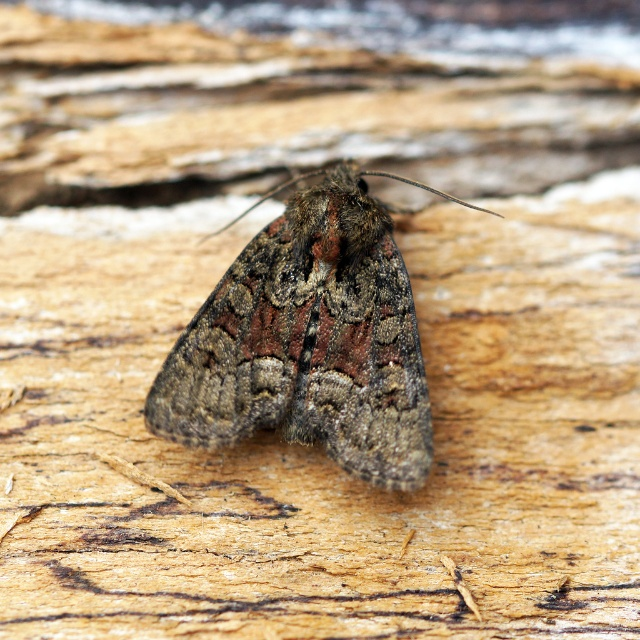Butterfly: (146, 159, 440, 524)
